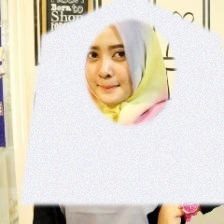Mukena: (19, 0, 224, 205)
